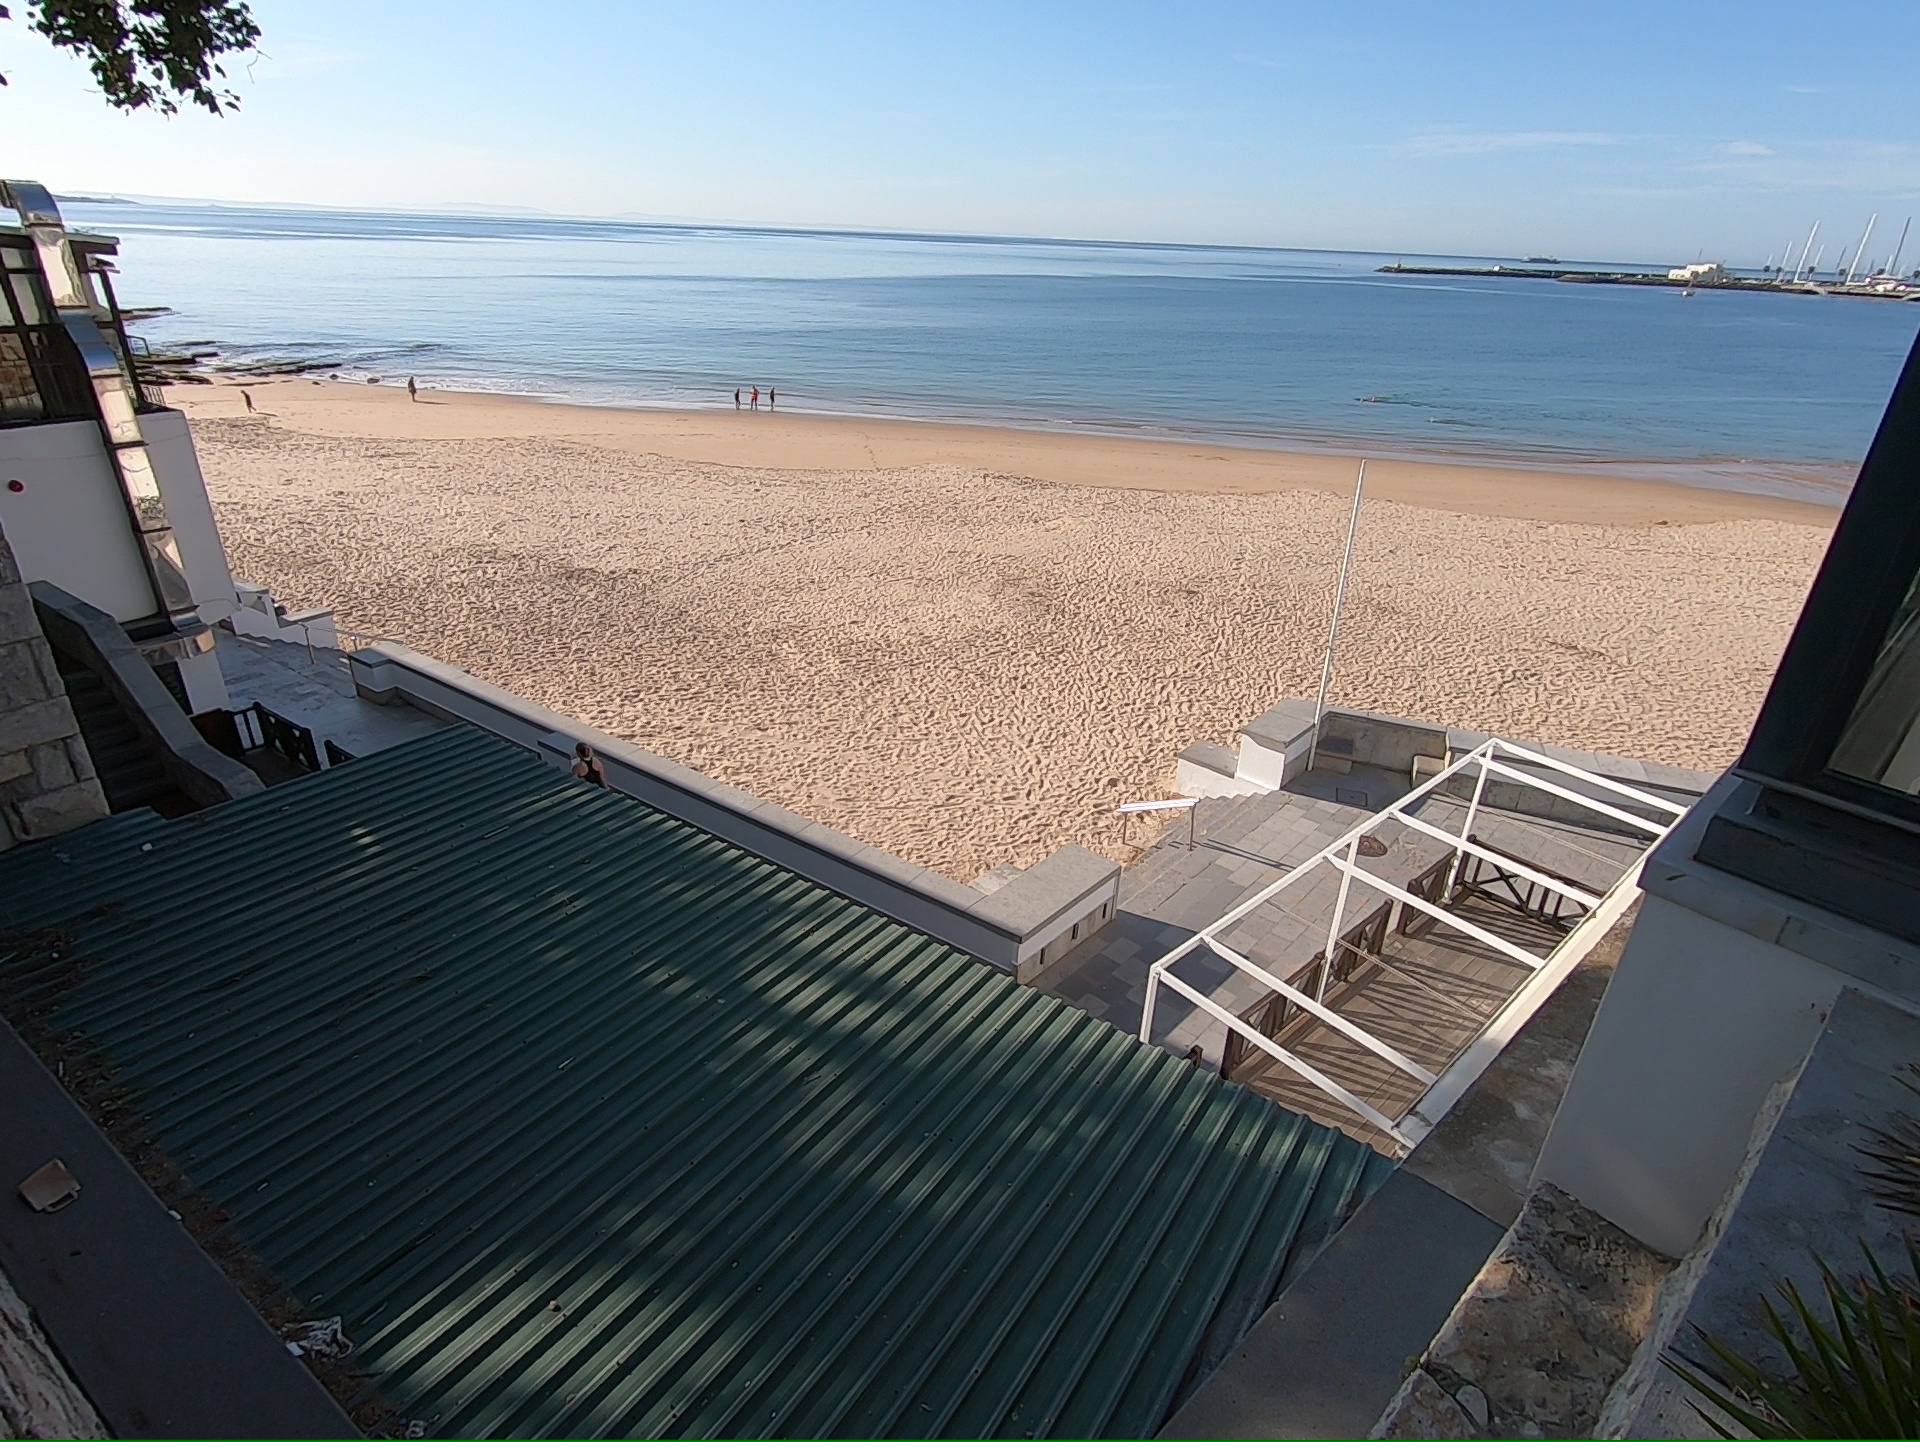person: (237, 389, 256, 415), (406, 375, 418, 404), (749, 384, 761, 412), (731, 387, 743, 410), (767, 387, 777, 413)
